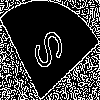S: (25, 25, 67, 80)
